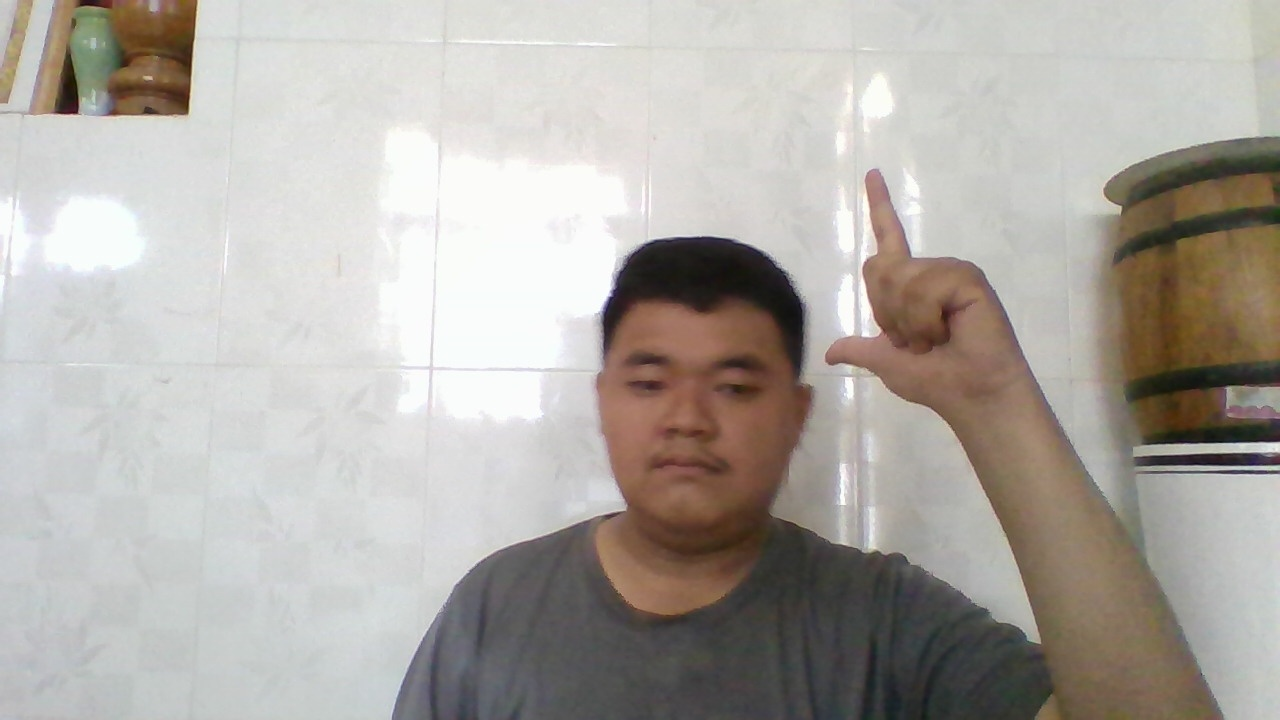L: (815, 161, 984, 410)
